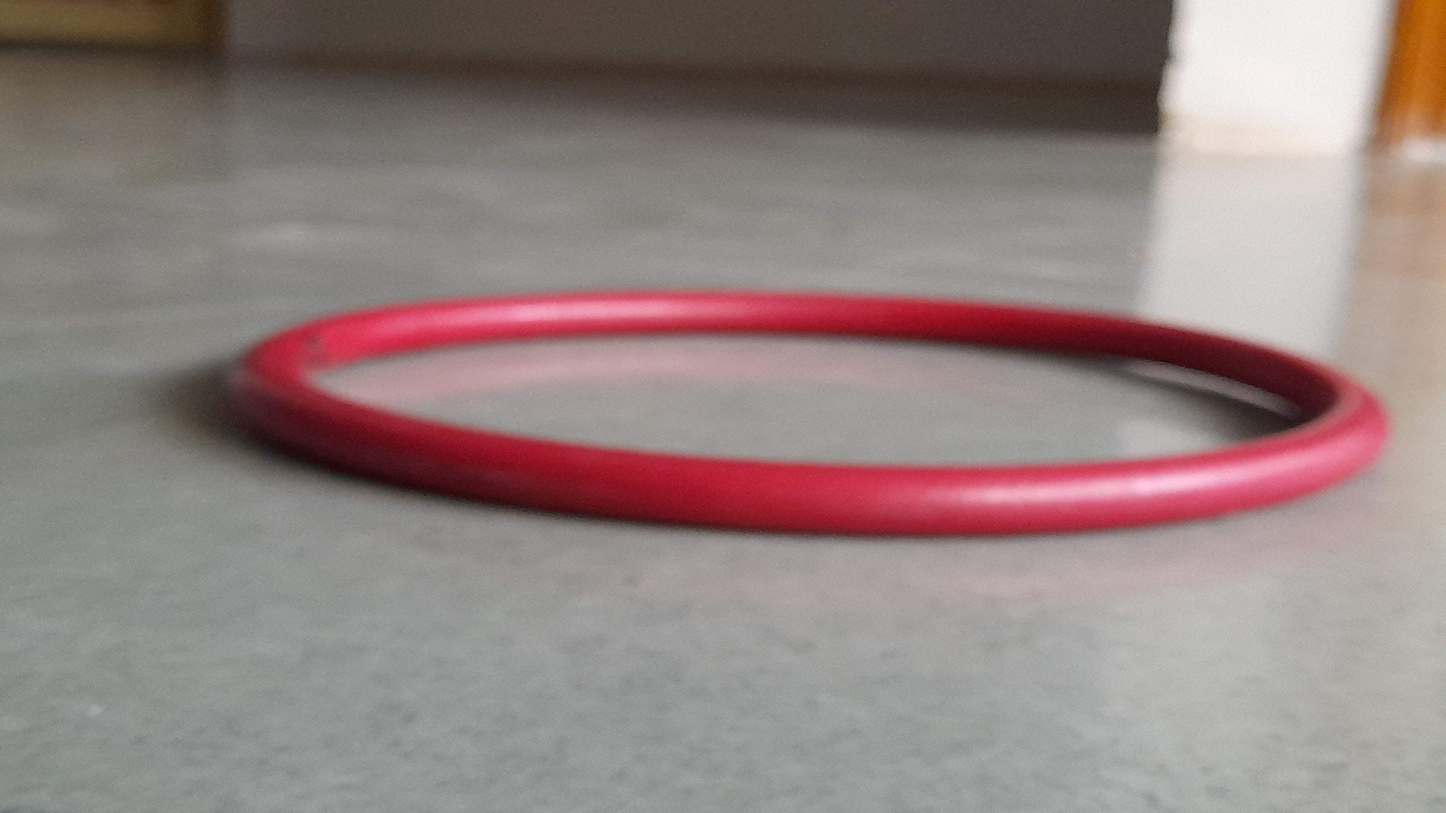Red ring: (227, 291, 1389, 535)
